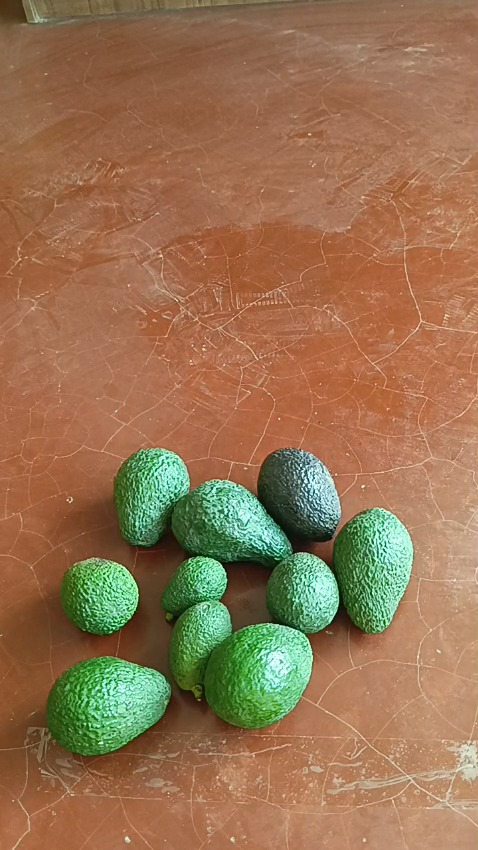Primera: (44, 655, 172, 754), (201, 621, 314, 728), (331, 506, 415, 632), (171, 480, 291, 565), (257, 449, 340, 542), (112, 447, 190, 545)
Segunda: (57, 556, 141, 634), (264, 551, 340, 633)
Tercera: (167, 600, 233, 694), (160, 554, 228, 618)
